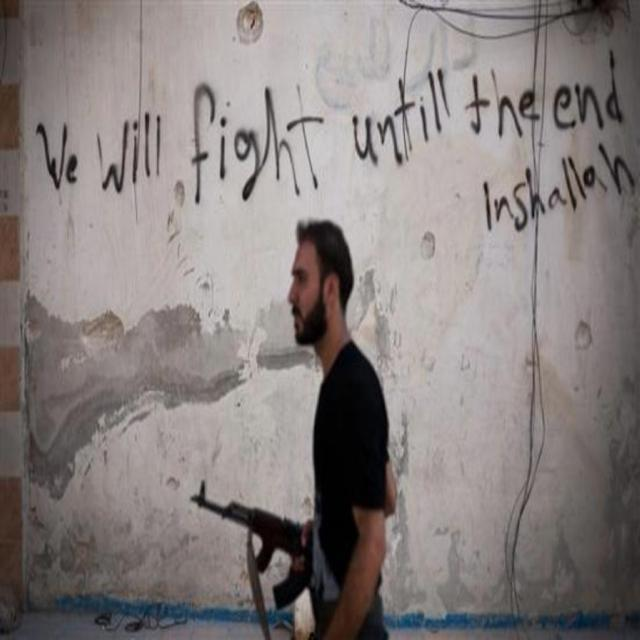weapon: (182, 466, 328, 620)
